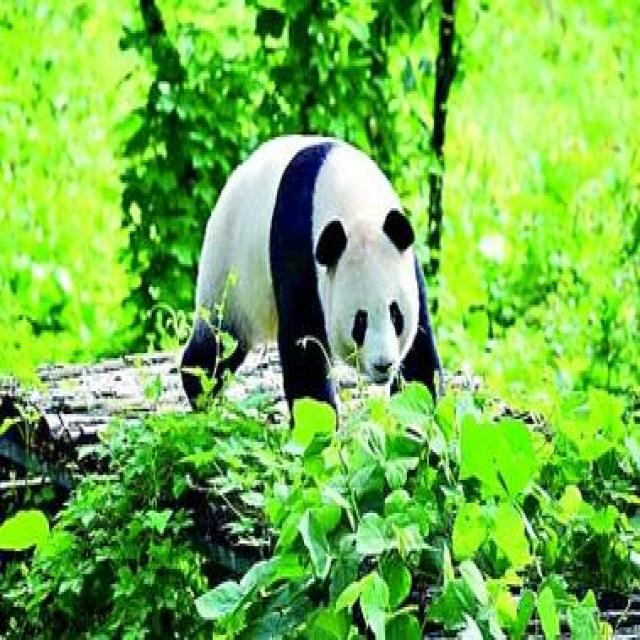panda: (176, 130, 451, 443)
